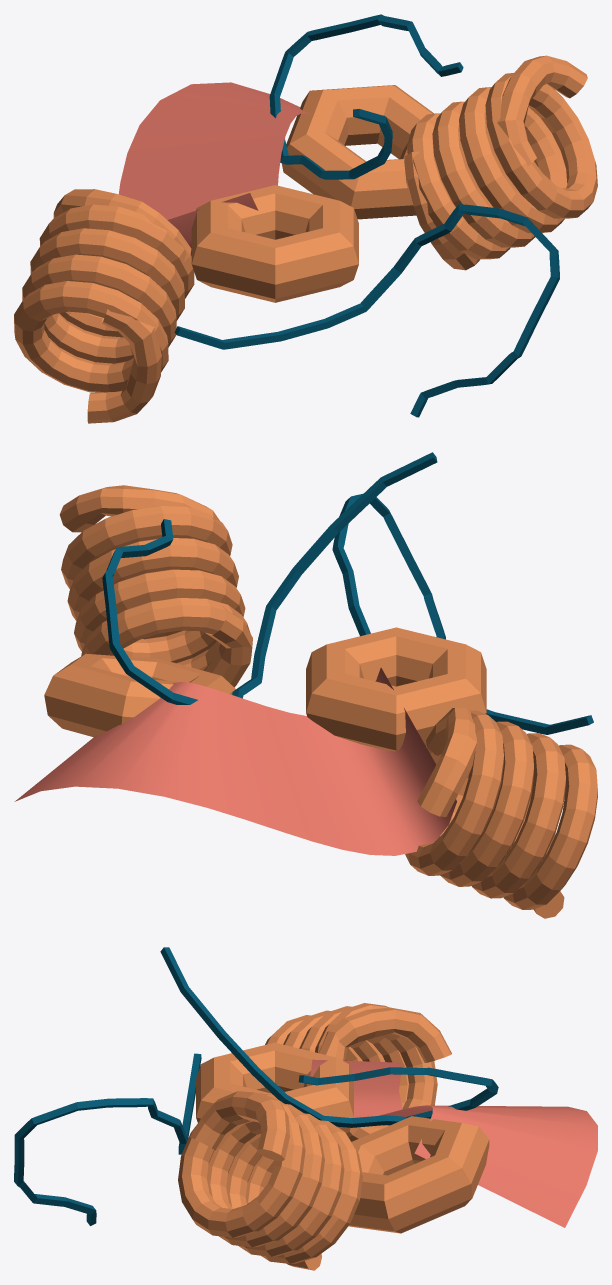
Rendered from scrap_metal.fbx.
3 views of the same model, one above another, from view 1: azimuth 30°, elevation 25°; view 2: azimuth 150°, elevation 25°; view 3: azimuth 270°, elevation 25° (orthographic). The views are drawn at different scales.
Parts seen in each view (by area): view 1: BezierCurve, Torus, Torus.007, Torus.011, Torus.004, Torus.010, wire, Torus.003, Torus.009, wire.001, Torus.002, Torus.012 (+5 smaller); view 2: BezierCurve, Torus, Torus.007, wire.001, Torus.002, Torus.008, Torus.011, Torus.010, Torus.009, Torus.004, Torus.001, Torus.003 (+4 smaller); view 3: BezierCurve, Torus.007, Torus, Torus.004, Torus.003, wire.001, Torus.002, wire, Torus.013, Torus.001, Torus.005, Torus.008 (+3 smaller).
Boxes of the visible parts, x1,y1,x2,y2 form: BezierCurve: [118, 82, 352, 256]; Torus: [191, 185, 358, 302]; Torus.007: [281, 85, 433, 219]; Torus.011: [14, 281, 168, 392]; Torus.004: [485, 73, 597, 218]; Torus.010: [22, 254, 176, 363]; wire: [174, 204, 559, 417]; Torus.003: [459, 87, 567, 233]; Torus.009: [30, 228, 184, 337]; wire.001: [269, 14, 463, 179]; Torus.002: [432, 101, 535, 247]; Torus.012: [87, 309, 161, 423]; BezierCurve: [14, 667, 456, 855]; Torus: [306, 627, 486, 751]; Torus.007: [44, 653, 235, 737]; wire.001: [102, 452, 437, 704]; Torus.002: [74, 569, 245, 663]; Torus.008: [405, 710, 503, 875]; Torus.011: [503, 744, 597, 909]; Torus.010: [471, 733, 565, 898]; Torus.009: [438, 721, 533, 886]; Torus.004: [61, 506, 232, 589]; Torus.001: [81, 598, 250, 670]; Torus.003: [67, 538, 238, 639]; BezierCurve: [310, 1059, 597, 1227]; Torus.007: [348, 1116, 489, 1233]; Torus: [196, 1042, 353, 1133]; Torus.004: [178, 1094, 305, 1237]; Torus.003: [206, 1104, 324, 1247]; wire.001: [160, 947, 498, 1127]; Torus.002: [226, 1113, 344, 1256]; wire: [14, 1053, 201, 1225]; Torus.013: [319, 1007, 451, 1062]; Torus.001: [245, 1120, 362, 1263]; Torus.005: [190, 1091, 289, 1161]; Torus.008: [315, 1003, 437, 1141].
Size of the model in its own units: 480 by 283 by 486.
